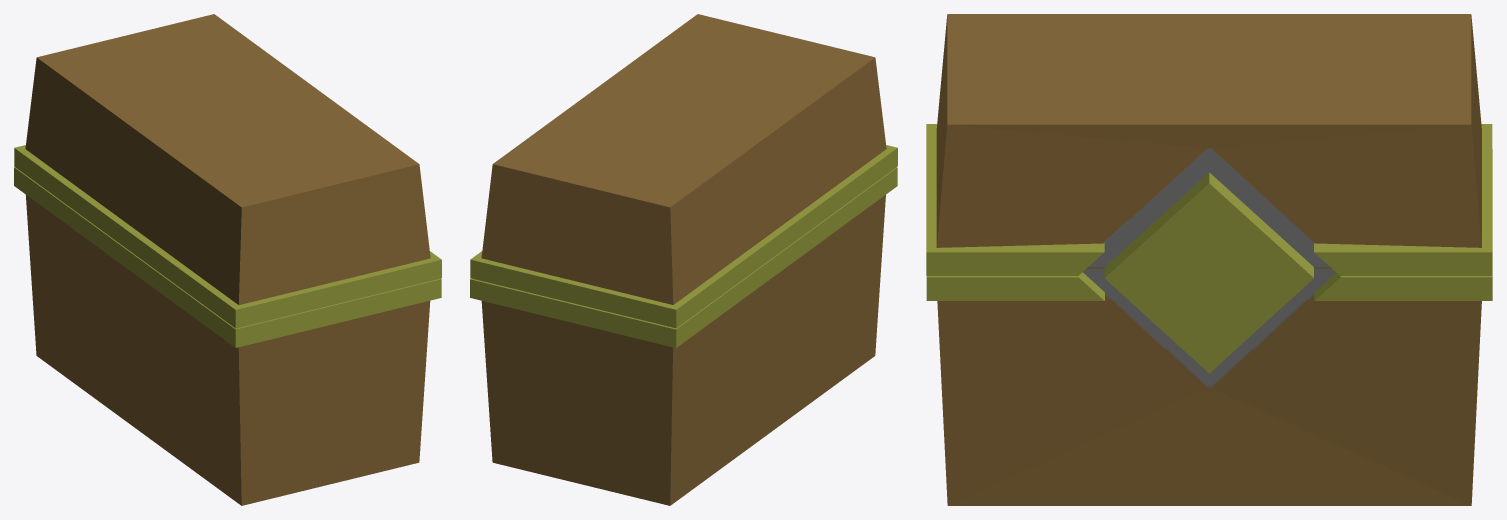
The model's file is GoldBox.fbx.
The picture shows the model from 3 angles, left to right: view 1: azimuth 30°, elevation 25°; view 2: azimuth 150°, elevation 25°; view 3: azimuth 270°, elevation 25°; orthographic projection. The views are drawn at different scales.
Visible parts, largest first — view 1: Top, Bottom; view 2: Top, Bottom; view 3: Top, Bottom.
Boxes of the visible parts, box(x1,y1,x2,y2) form: Top: box(14, 14, 441, 328); Bottom: box(14, 167, 441, 505); Top: box(470, 14, 897, 328); Bottom: box(470, 167, 897, 505); Top: box(926, 14, 1492, 373); Bottom: box(926, 149, 1492, 505).
Size of the model in its own units: 118 by 161 by 216.
2 materials, 2 textured.
